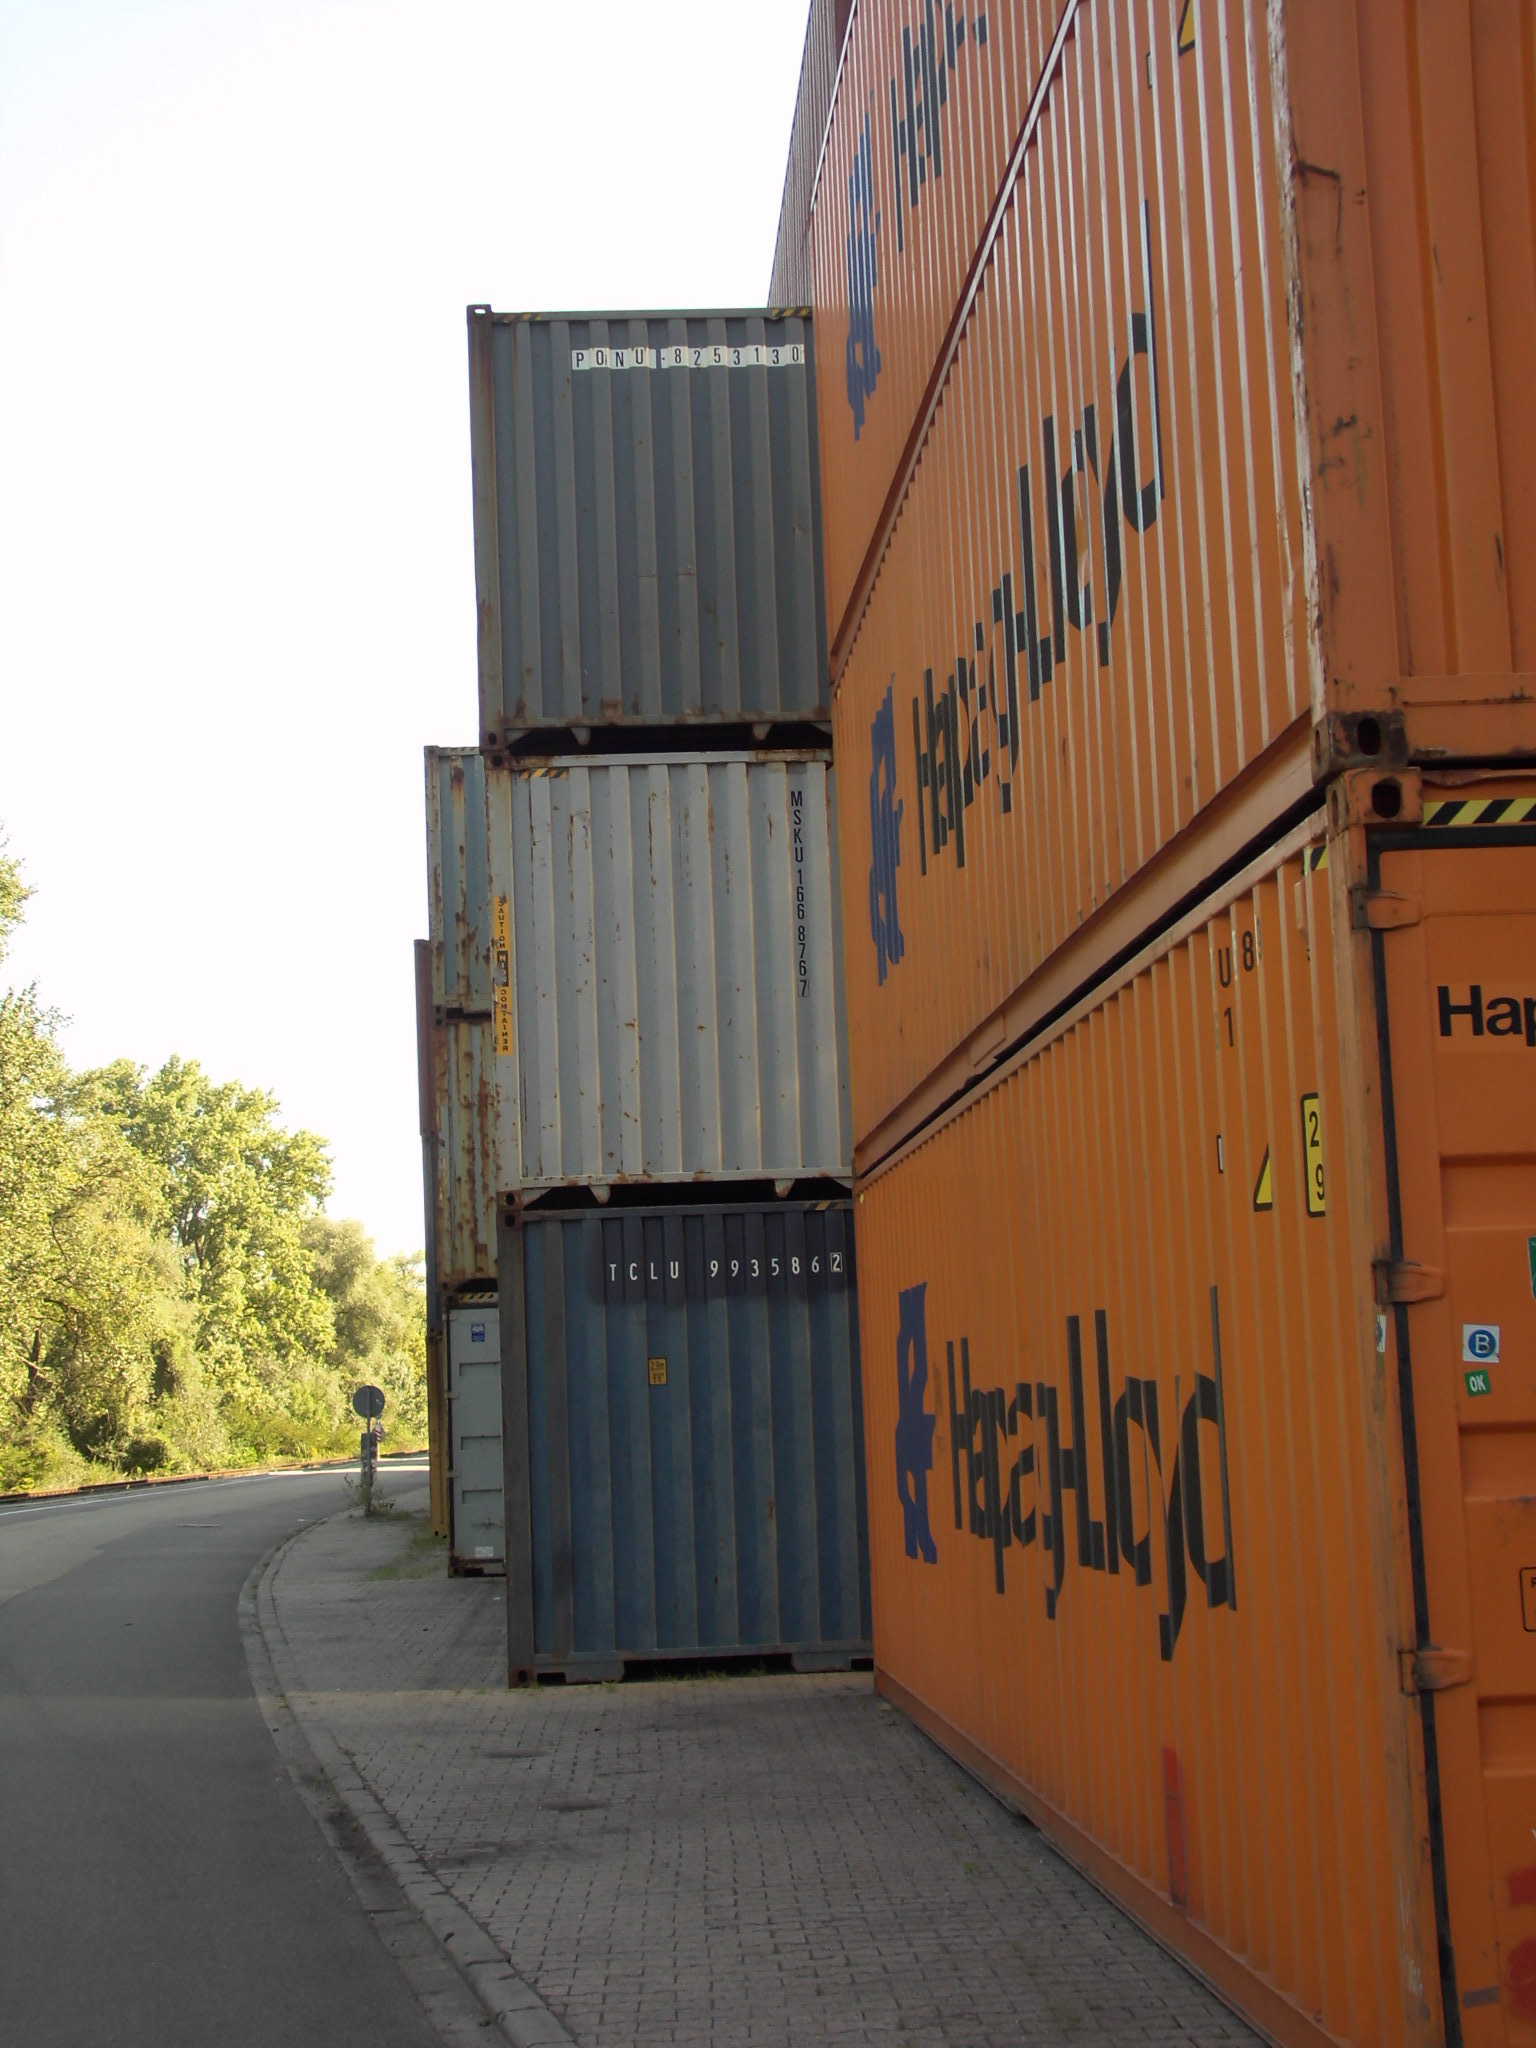container_no_door: (482, 305, 812, 755), (494, 760, 823, 1209), (521, 1213, 850, 1663)
